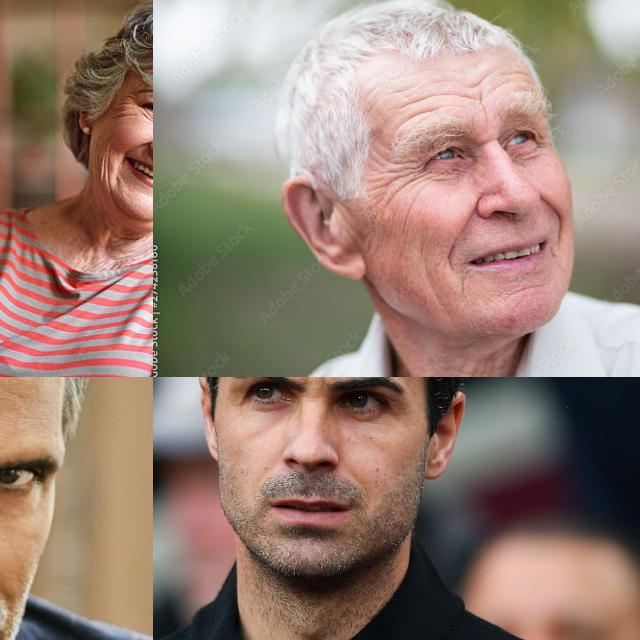chin: (512, 282, 546, 296)
crows_feet: (391, 157, 424, 187), (120, 93, 138, 117), (538, 131, 554, 155)
forehead: (394, 86, 432, 120), (432, 74, 458, 110), (497, 61, 531, 80), (462, 82, 490, 105)
gummy_smile: (451, 203, 477, 255), (538, 194, 568, 232), (130, 138, 153, 150)
masseter: (98, 142, 114, 188), (399, 202, 419, 232)
